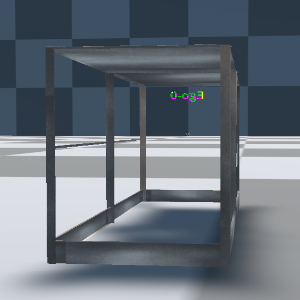Rack: (44, 41, 241, 267)
